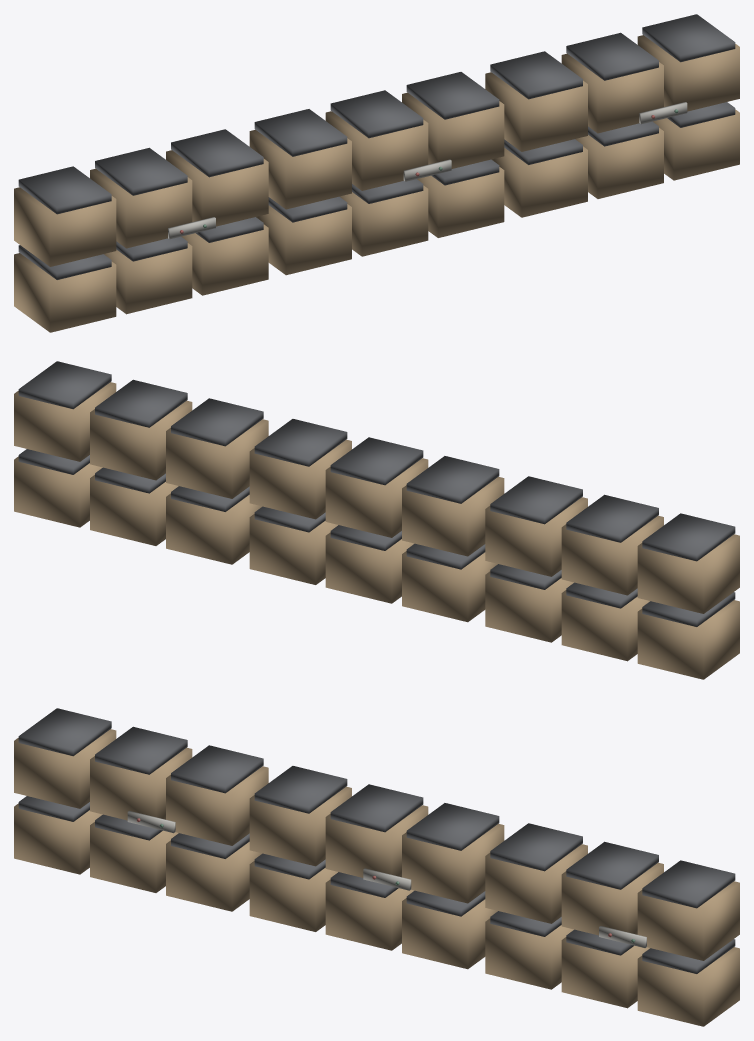
The model's file is fruit_crate_display__cluster.glb.
The picture shows the model from 3 angles, top to bottom: view 1: azimuth 30°, elevation 25°; view 2: azimuth 150°, elevation 25°; view 3: azimuth 330°, elevation 25°; orthographic projection.
Visible parts, largest first — view 1: world; view 2: world; view 3: world.
Boxes of the visible parts, bbox=[...] form: world: bbox=[14, 14, 739, 332]; world: bbox=[14, 361, 739, 679]; world: bbox=[14, 708, 739, 1026].
Bounding box in the file's own units: 4.17 × 0.72 × 0.431.
